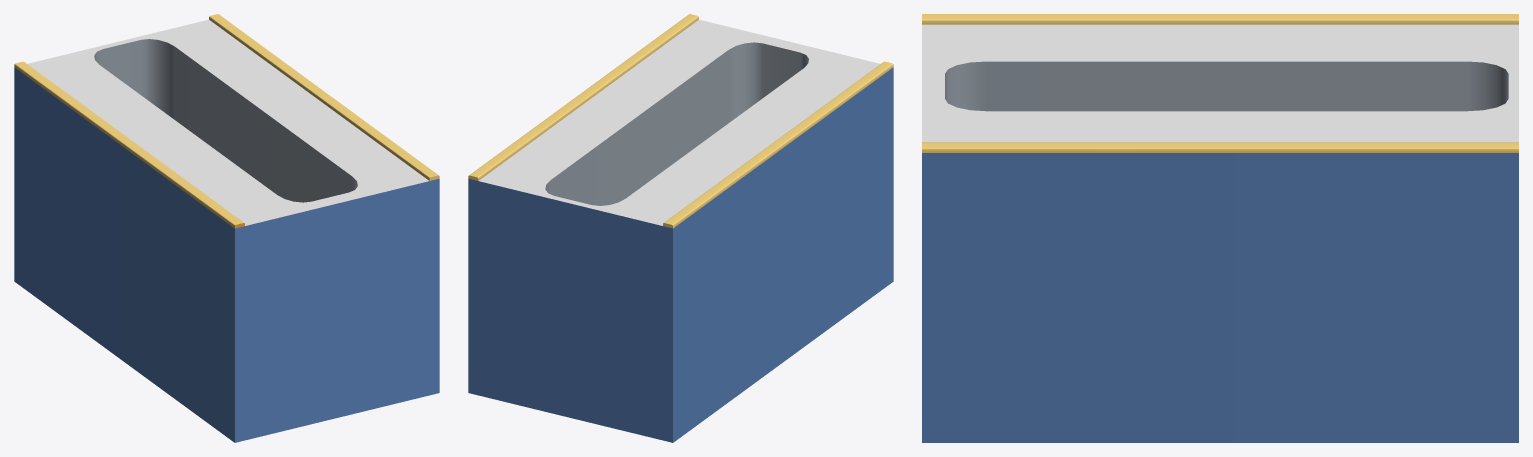
3 views of the same model, side by side, from view 1: azimuth 30°, elevation 25°; view 2: azimuth 150°, elevation 25°; view 3: azimuth 270°, elevation 25° (orthographic). The views are drawn at different scales.
Visible parts, largest first — view 1: e4; view 2: e4; view 3: e4.
Boxes of the visible parts, <box> form: e4: <box>14,14,439,442</box>; e4: <box>468,14,893,442</box>; e4: <box>922,14,1518,442</box>.
Bounding box in the file's own units: 700 × 711 × 1306.
1 material, 1 textured.
